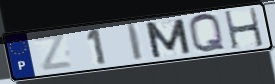1: (85, 27, 108, 66)
H: (222, 6, 266, 51)
I: (125, 21, 146, 62)
M: (142, 17, 194, 60)
Q: (187, 13, 228, 55)
Z: (31, 31, 76, 73)
